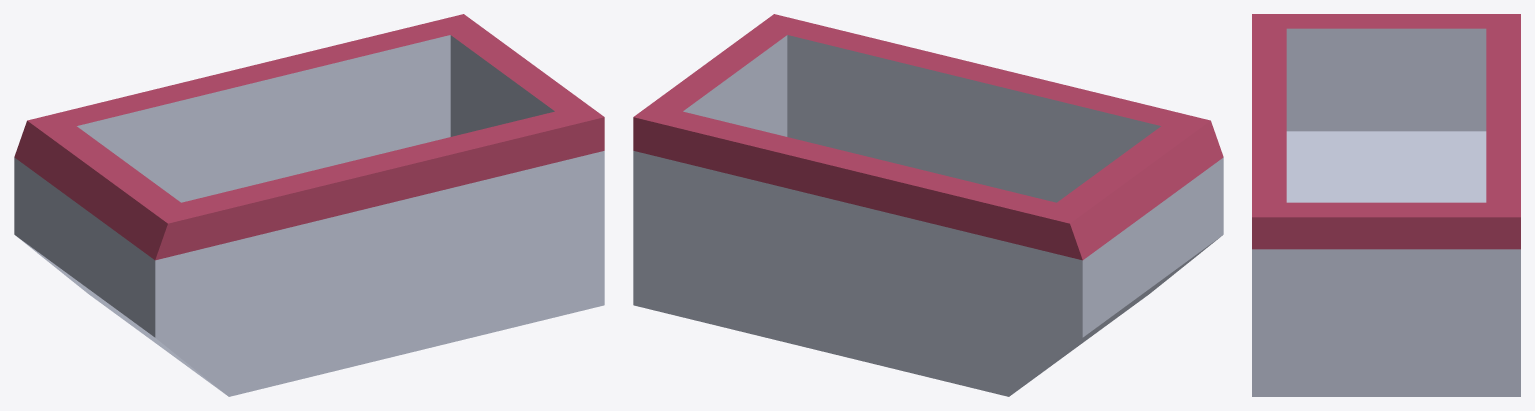
The picture shows the model from 3 angles, left to right: view 1: azimuth 30°, elevation 25°; view 2: azimuth 150°, elevation 25°; view 3: azimuth 270°, elevation 25°; orthographic projection. The views are drawn at different scales.
Visible parts, largest first — view 1: object_063; view 2: object_063; view 3: object_063.
Part boxes in pixels (<box>): object_063: <box>14,14,604,396</box>; object_063: <box>633,14,1223,396</box>; object_063: <box>1252,14,1520,396</box>.
Bounding box in the file's own units: 7 × 2.8 × 3.8.
